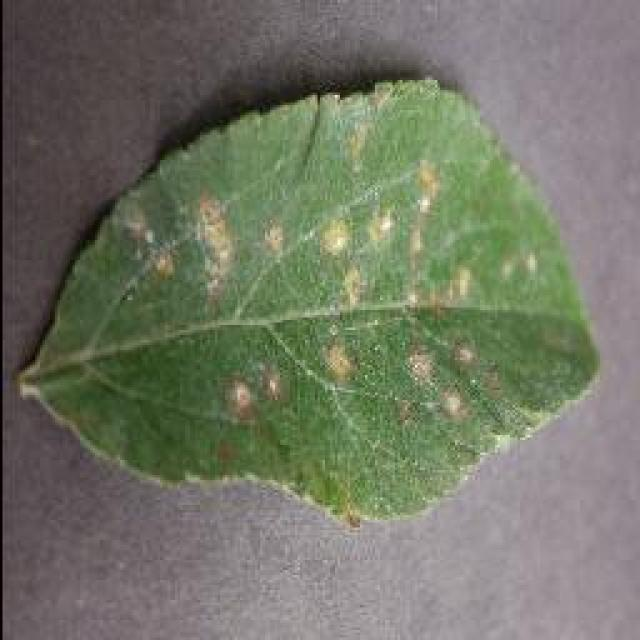apple scab disease: (18, 72, 602, 528)
